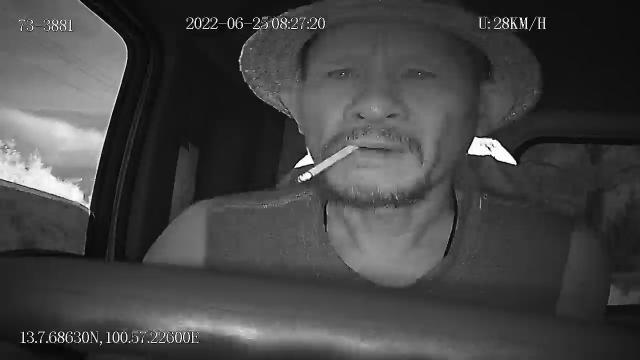SafeDriving: (394, 59, 444, 87), (318, 58, 366, 85)
Smoking: (299, 145, 357, 183)
